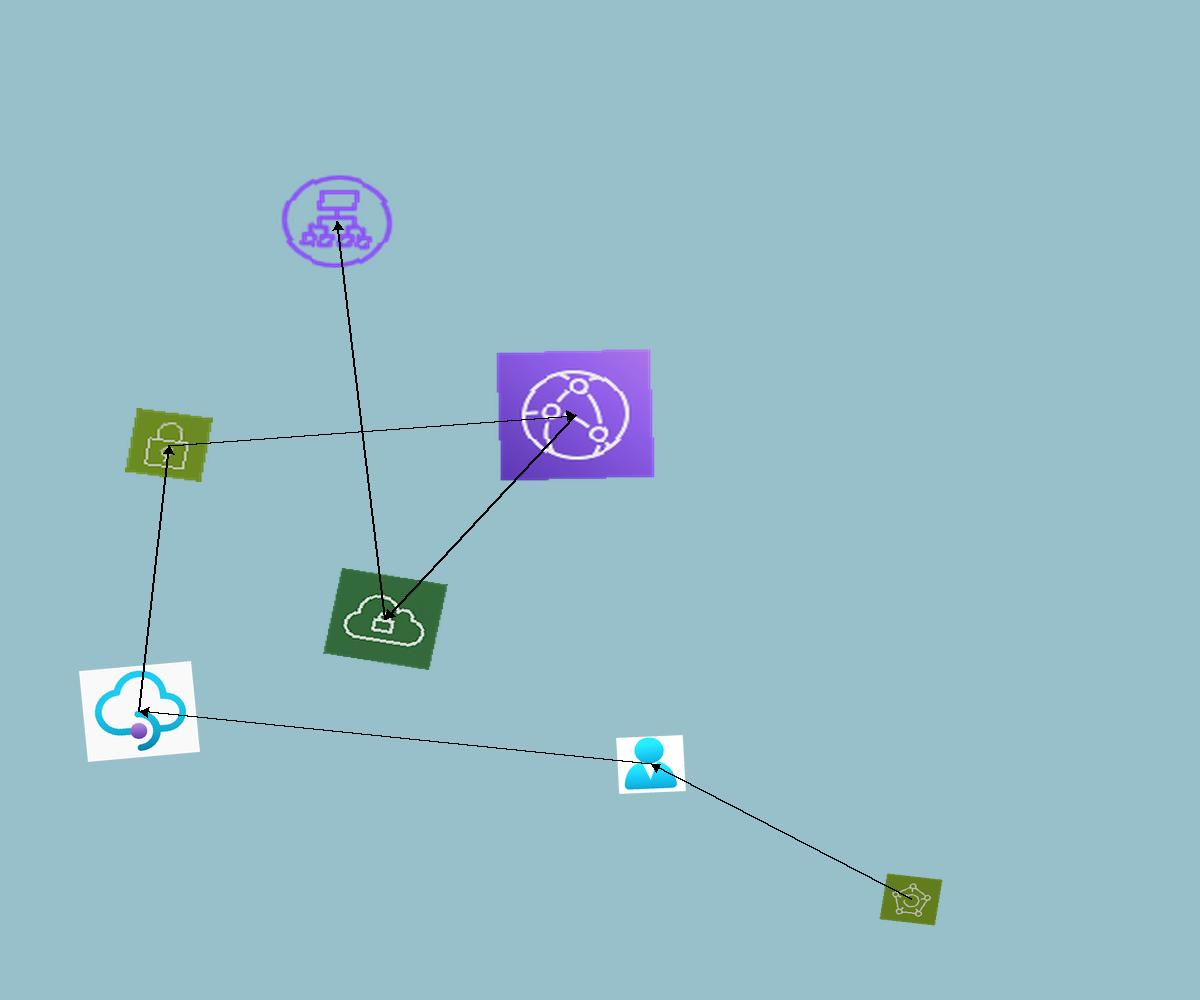AWS-Backup: (879, 873, 943, 926)
AWS-CloudFront: (495, 348, 656, 482)
AWS-Private_vpc: (323, 567, 448, 671)
AWS-Public-subnet: (125, 408, 213, 482)
AWS-Res_Elastic-Load-Balancing_Application-Load-Balancer: (272, 167, 402, 276)
Azure_api_gateway: (79, 661, 200, 762)
Azure_users: (616, 735, 686, 794)
